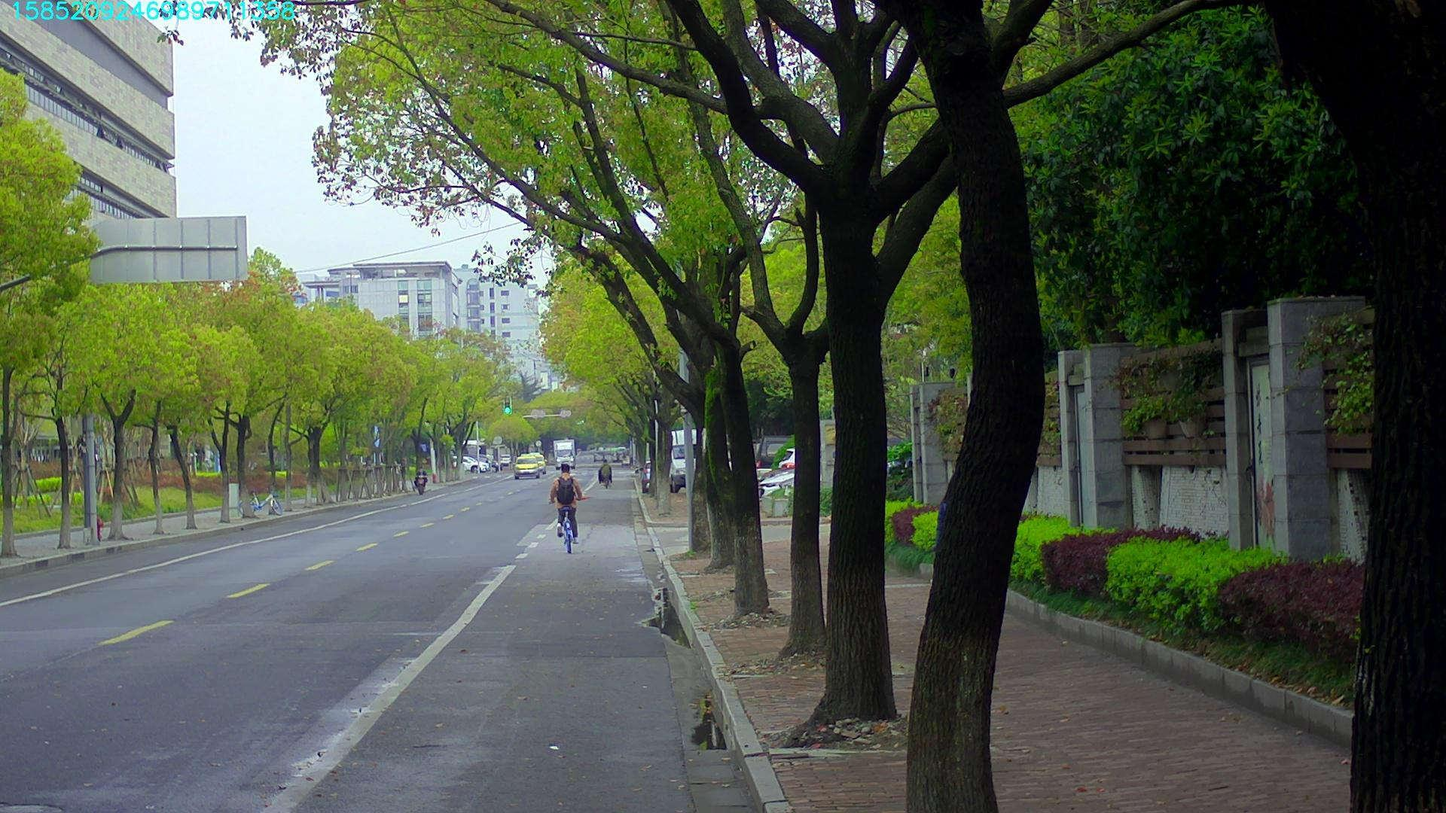green: (503, 396, 511, 413)
